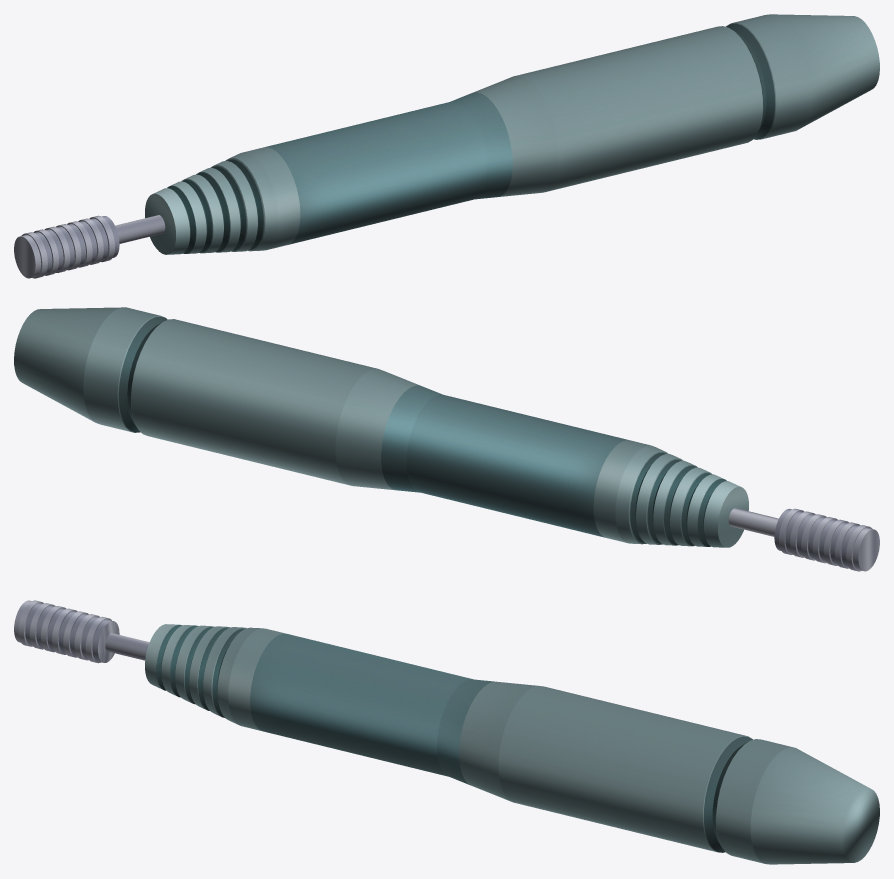
The model's file is Nail drill machine.fbx.
3 views of the same model, one above another, from view 1: azimuth 30°, elevation 25°; view 2: azimuth 150°, elevation 25°; view 3: azimuth 330°, elevation 25° (orthographic).
Visible parts, largest first — view 1: nail drill machine, Nail drill; view 2: nail drill machine, Nail drill; view 3: nail drill machine, Nail drill.
Boxes of the visible parts, x1,y1,x2,y2 form: nail drill machine: [145, 14, 879, 254]; Nail drill: [14, 215, 165, 278]; nail drill machine: [14, 307, 748, 547]; Nail drill: [728, 508, 879, 571]; nail drill machine: [145, 624, 879, 864]; Nail drill: [14, 600, 149, 663].
Size of the model in its own units: 1607 by 200 by 200.
Materials: 1 (1 with a texture image).
